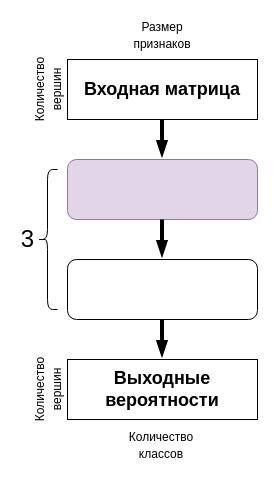
The diagram is 275 pixels wide and 478 high, and some of its shapes have lost their labels. The shapes that lost their labels are listed below. From the top down, each one's centre as x and y in pixels, then its label:
point 162,189: GAT/GCN Layer
point 162,289: ReLU
